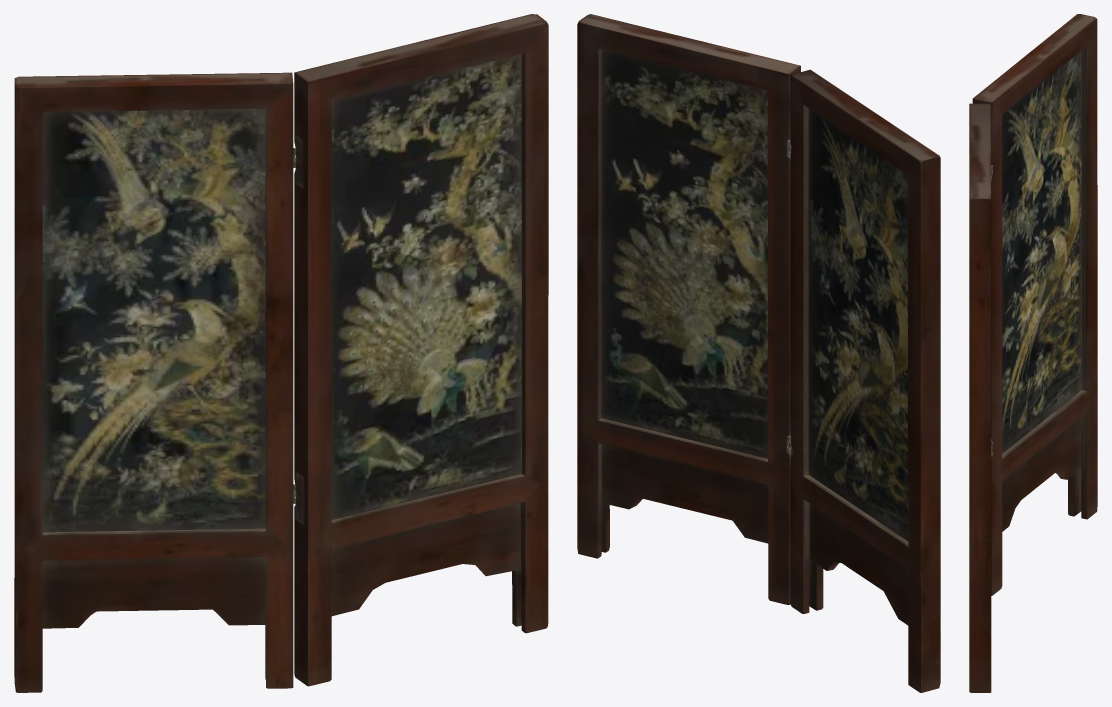
Rendered from chinese_screen_panels.glb.
The picture shows the model from 3 angles, left to right: view 1: azimuth 30°, elevation 25°; view 2: azimuth 150°, elevation 25°; view 3: azimuth 270°, elevation 25°; orthographic projection. The views are drawn at different scales.
Parts seen in each view (by area): view 1: chinese_screen_panels_a; view 2: chinese_screen_panels_a; view 3: chinese_screen_panels_a.
Part boxes in pixels (left/top/right/bottom): chinese_screen_panels_a: left=14, top=14, right=548, bottom=692; chinese_screen_panels_a: left=577, top=14, right=940, bottom=692; chinese_screen_panels_a: left=969, top=14, right=1097, bottom=692.
Bounding box in the file's own units: 1.29 × 1.6 × 0.3769.
1 material, 1 textured.
